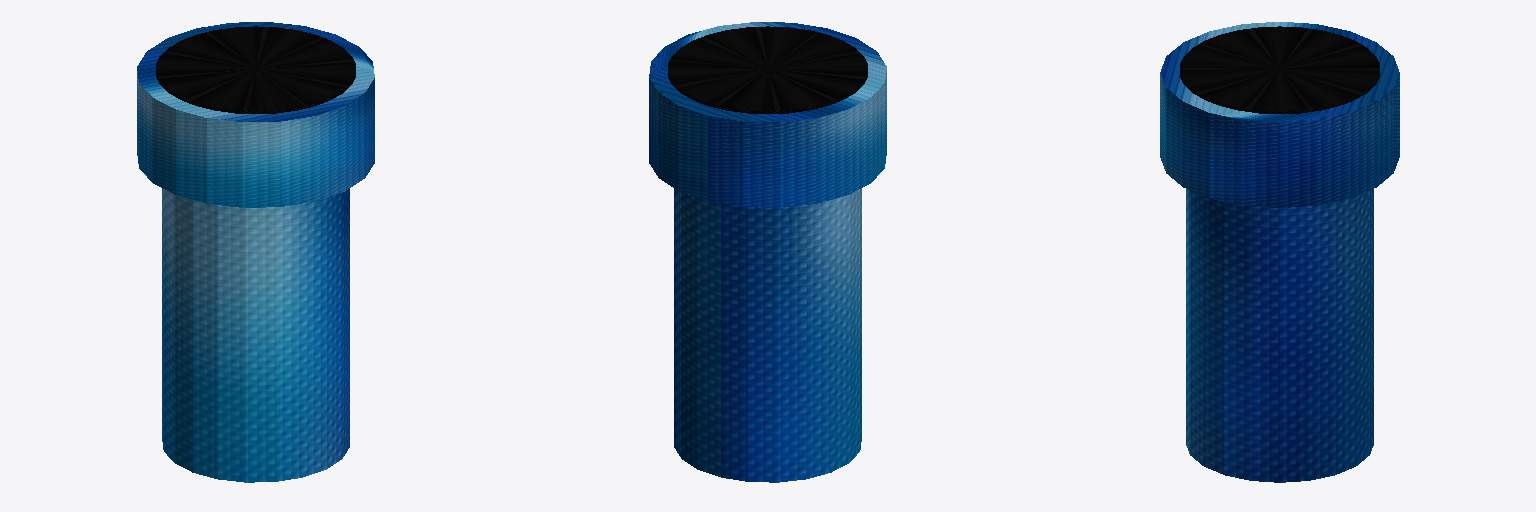
The picture shows the model from 3 angles: view 1: azimuth 30°, elevation 25°; view 2: azimuth 150°, elevation 25°; view 3: azimuth 270°, elevation 25°; orthographic projection.
Visible parts, largest first — view 1: Cylinder001; view 2: Cylinder001; view 3: Cylinder001.
Part boxes in pixels (x1,y1,x2,y2): Cylinder001: (137,22,374,482); Cylinder001: (649,22,886,482); Cylinder001: (1160,22,1399,482).
Size of the model in its own units: 7.6 by 13.11 by 7.6.
2 materials, 2 textured.